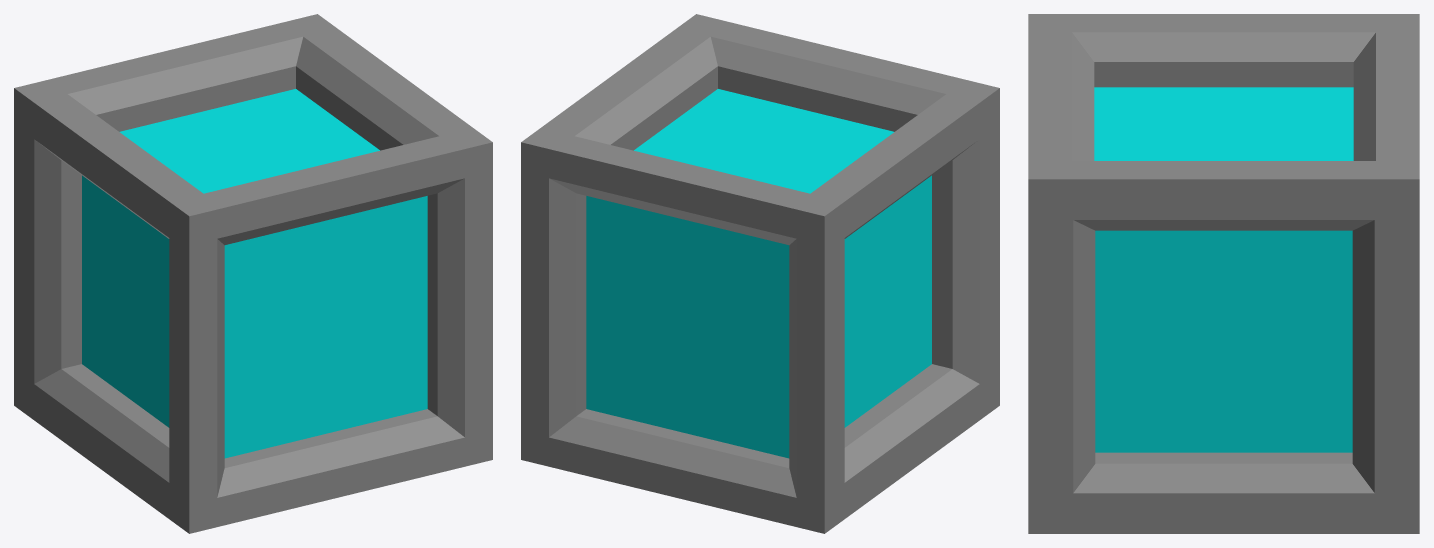
The picture shows the model from 3 angles, left to right: view 1: azimuth 30°, elevation 25°; view 2: azimuth 150°, elevation 25°; view 3: azimuth 270°, elevation 25°; orthographic projection. The views are drawn at different scales.
Parts seen in each view (by area): view 1: pCube2; view 2: pCube2; view 3: pCube2.
Part boxes in pixels (x1,y1,x2,y2): pCube2: (14, 14, 492, 533); pCube2: (521, 14, 999, 533); pCube2: (1028, 14, 1419, 533).
Size of the model in its own units: 30.27 by 30.27 by 30.27.
